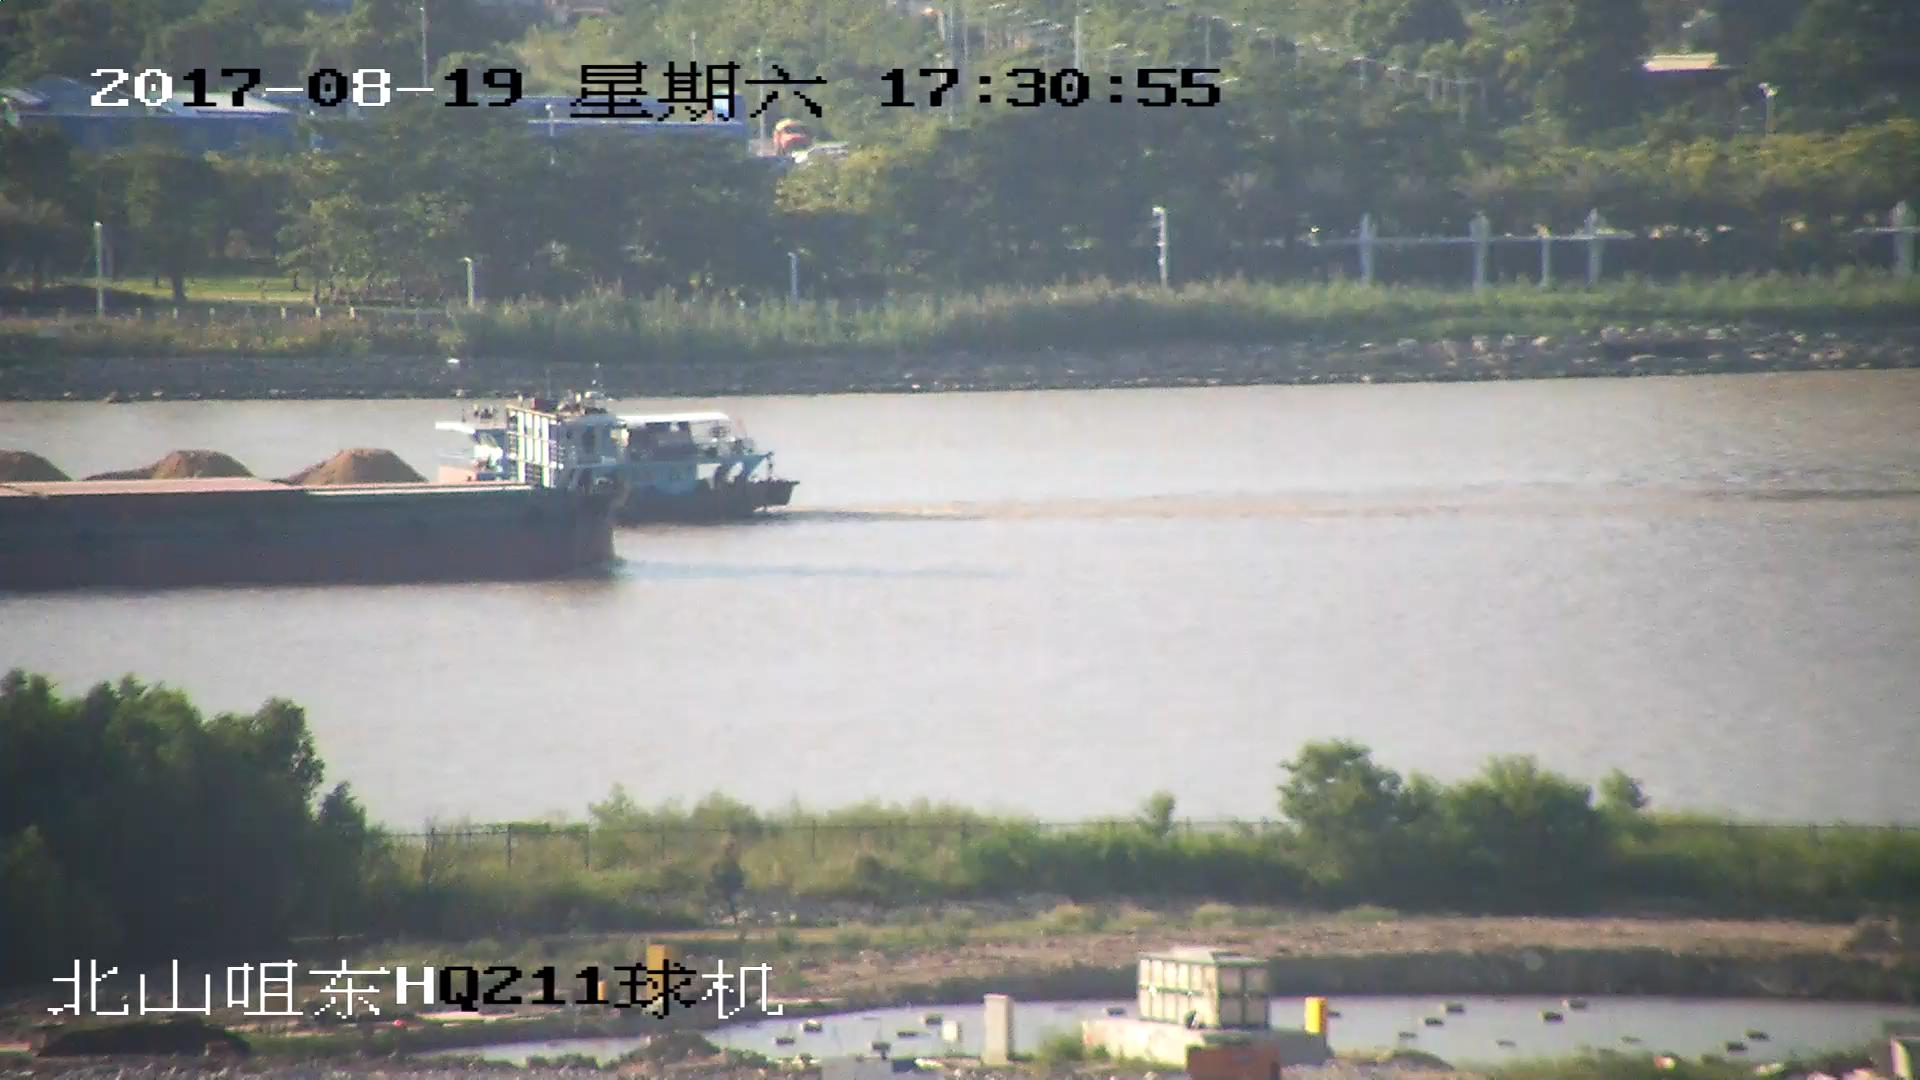general cargo ship: (1, 394, 629, 581)
ore carrier: (1, 393, 800, 520)
